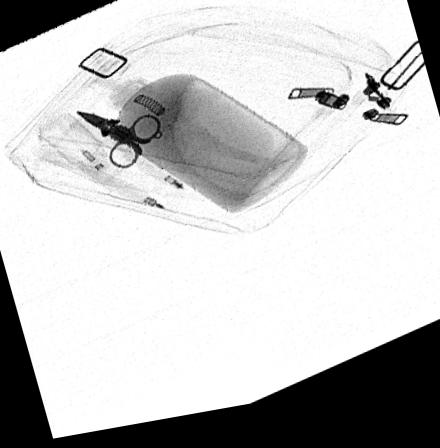Scissors: (75, 114, 164, 173)
